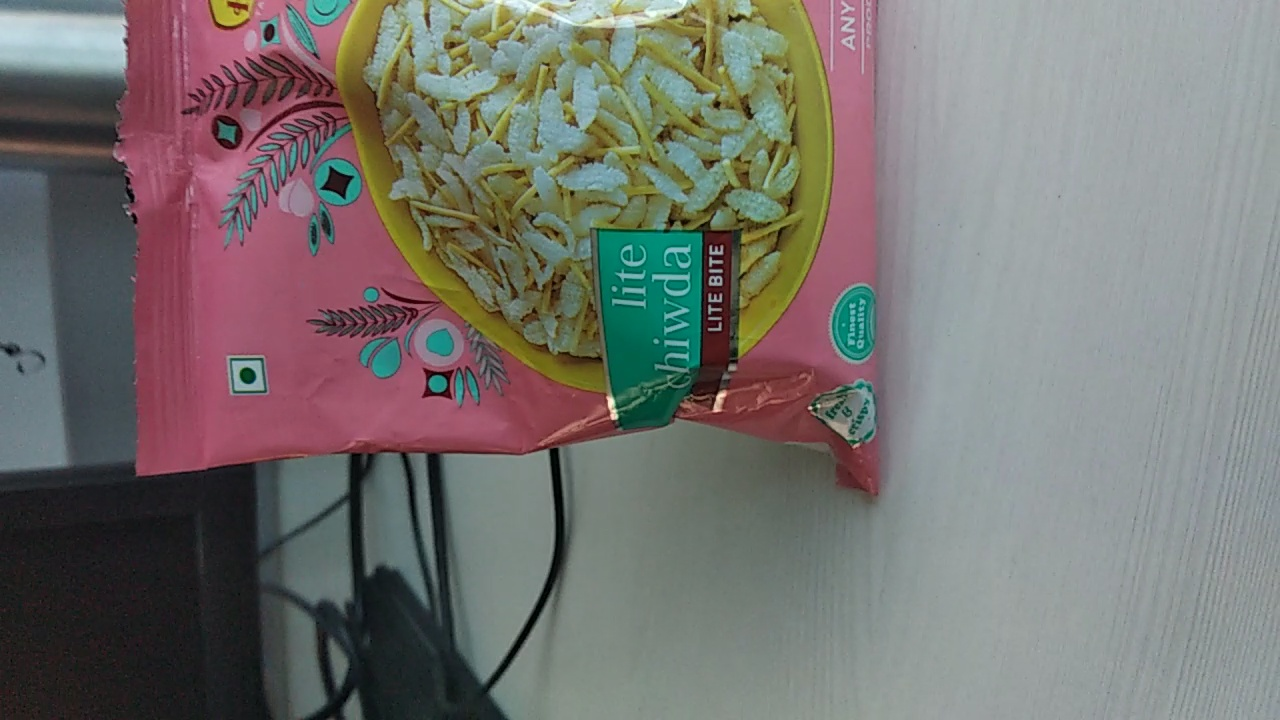liteSnack: (114, 1, 900, 506)
